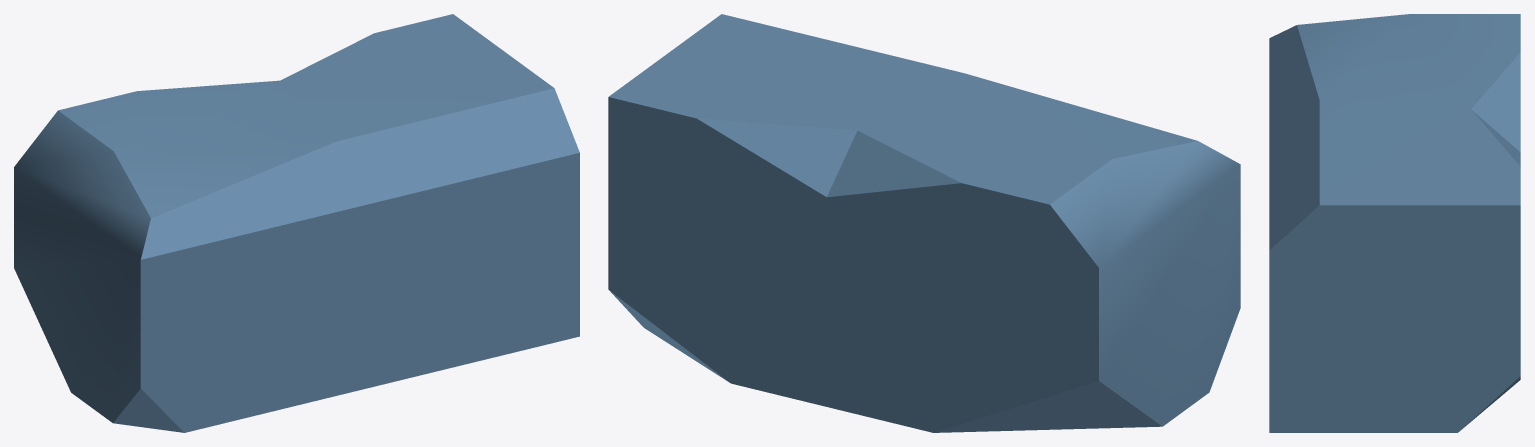
Rendered from Mesh_PiedraGrande_v03.fbx.
3 views of the same model, side by side, from view 1: azimuth 30°, elevation 25°; view 2: azimuth 150°, elevation 25°; view 3: azimuth 270°, elevation 25° (orthographic). The views are drawn at different scales.
Visible parts, largest first — view 1: Mesh_PiedraGrande_v03; view 2: Mesh_PiedraGrande_v03; view 3: Mesh_PiedraGrande_v03.
Boxes of the visible parts, x1,y1,x2,y2 form: Mesh_PiedraGrande_v03: [14, 14, 579, 432]; Mesh_PiedraGrande_v03: [608, 14, 1240, 432]; Mesh_PiedraGrande_v03: [1269, 14, 1520, 432].
Size of the model in its own units: 4 by 2 by 2.
